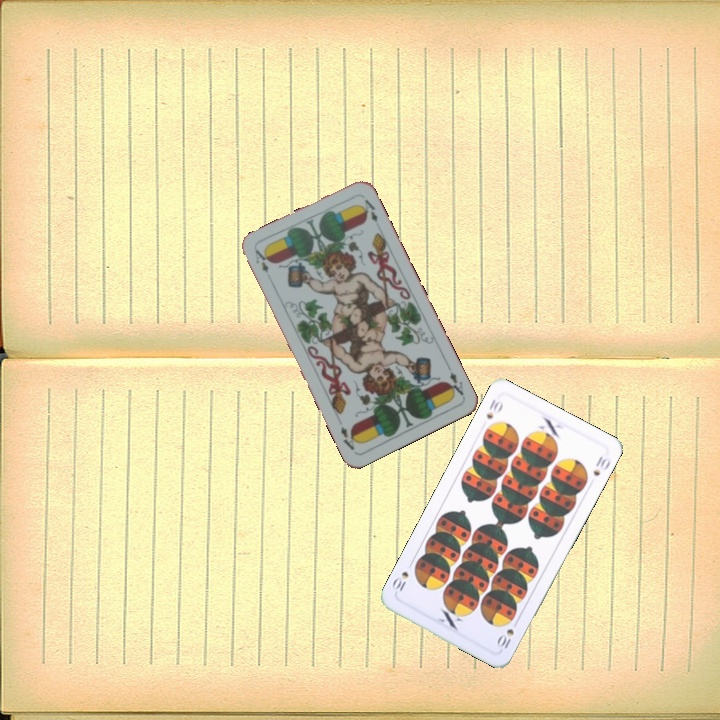EA: (443, 367, 467, 399), (251, 245, 271, 276)
S10: (493, 616, 521, 653), (482, 395, 506, 422)
